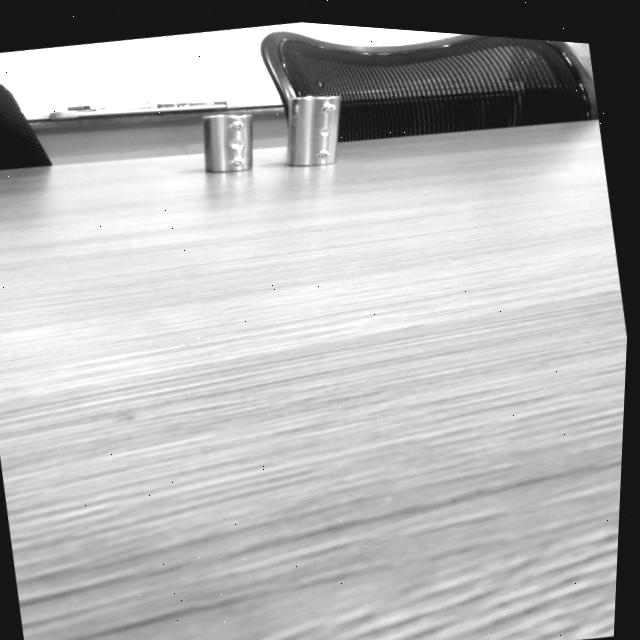Co_Lon: (284, 91, 340, 167)
Co_Nho: (202, 112, 252, 172)
